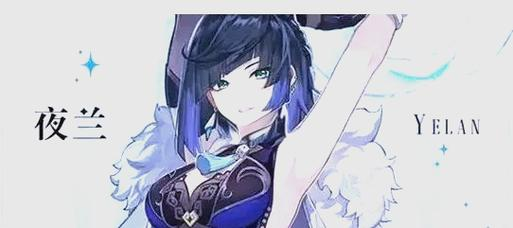夜兰: (138, 14, 406, 228)
